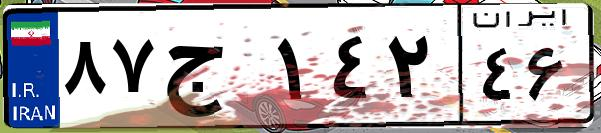1: (270, 28, 330, 110)
2: (385, 28, 445, 110)
4: (330, 28, 385, 110), (475, 38, 525, 113)
6: (525, 38, 570, 115)
7: (110, 28, 158, 98)
8: (57, 26, 110, 100)
ج: (158, 20, 270, 120)
